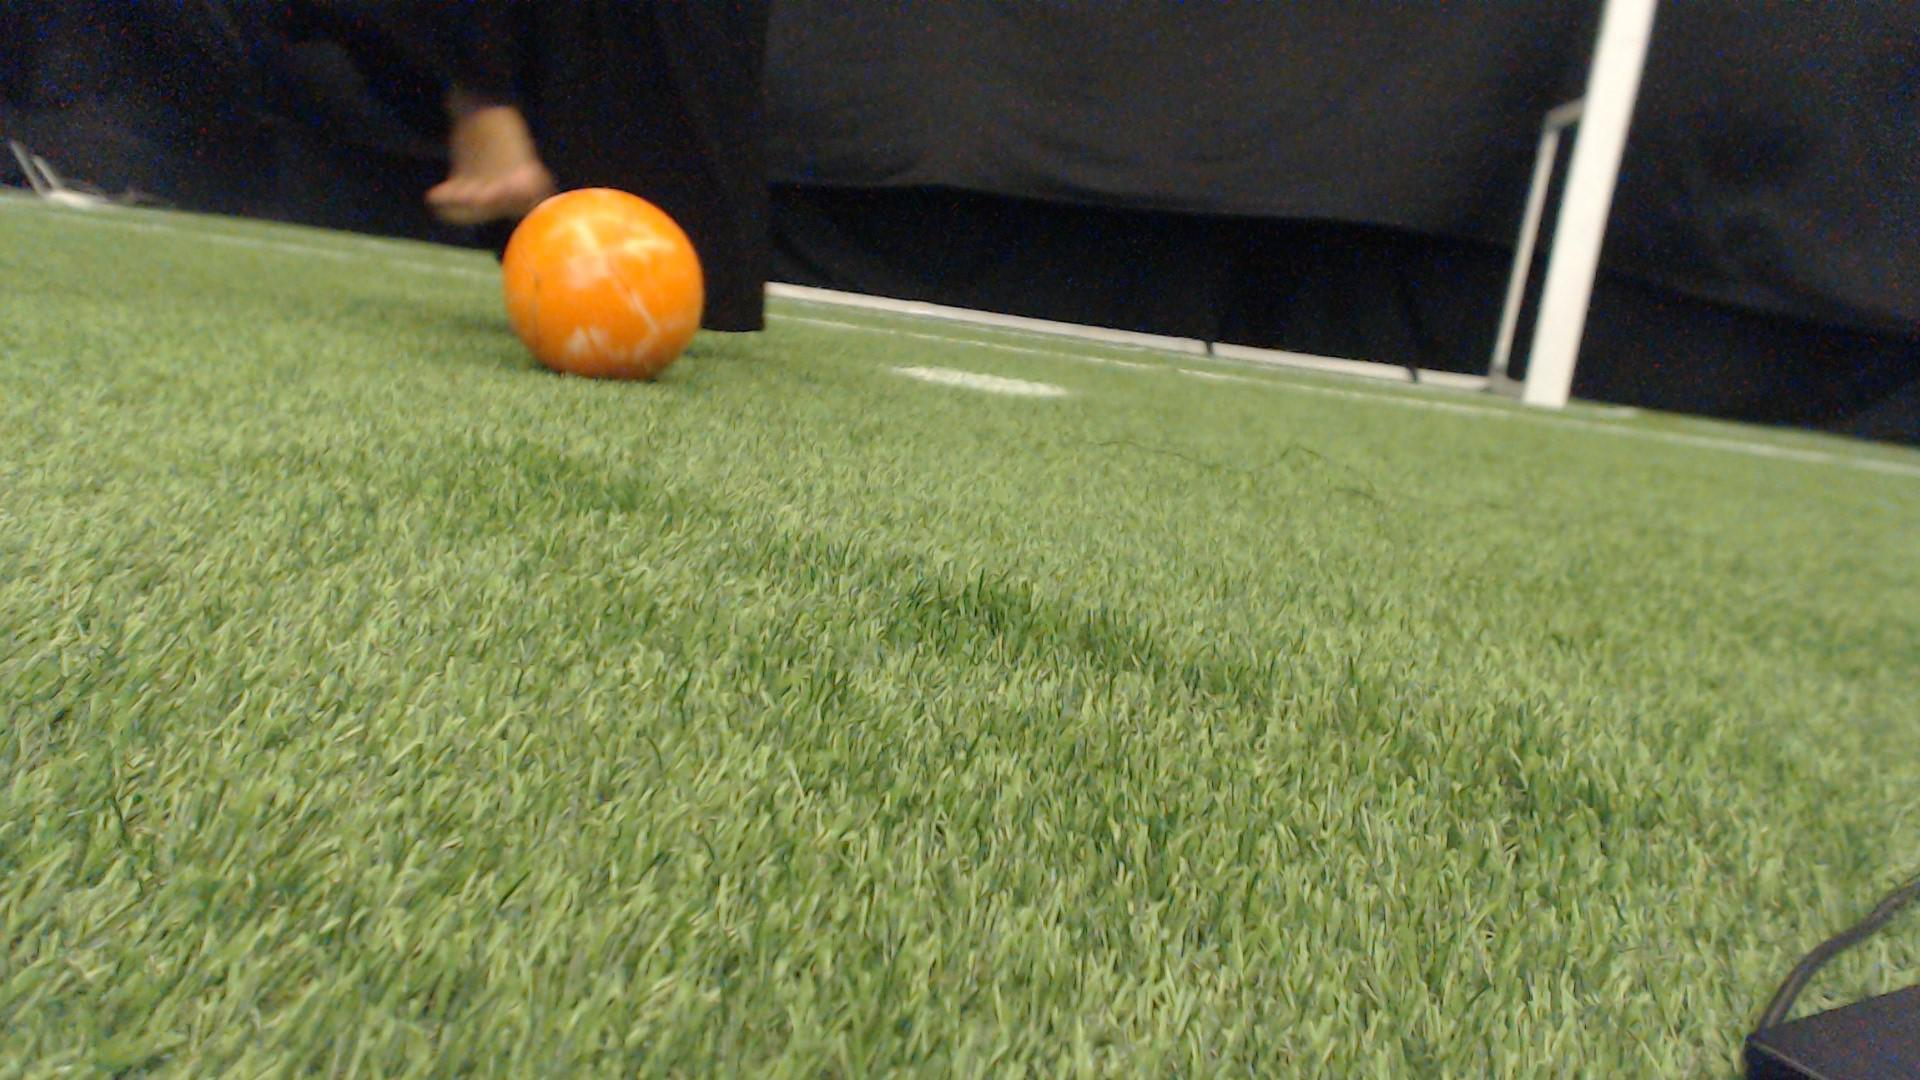bola: (498, 179, 713, 392)
